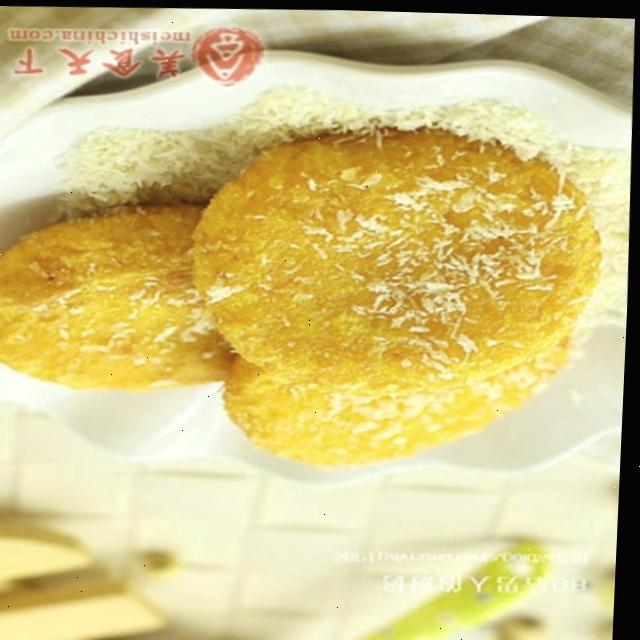炸货点心: (0, 66, 626, 516)
蛋糕甜品: (0, 66, 626, 516)
